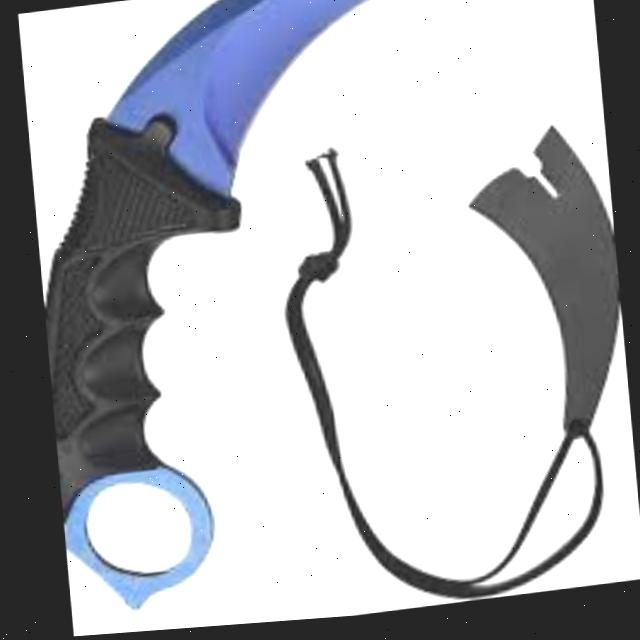knife: (18, 0, 568, 619)
